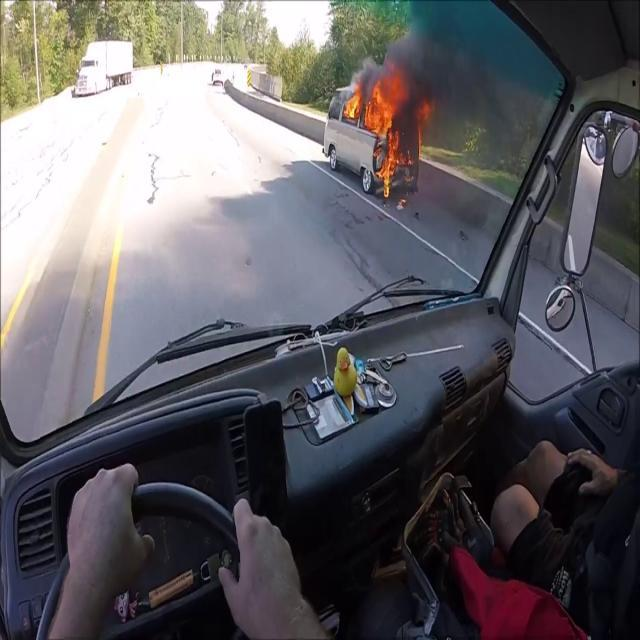Fire: (346, 68, 408, 192)
Smoke: (390, 2, 512, 124)
